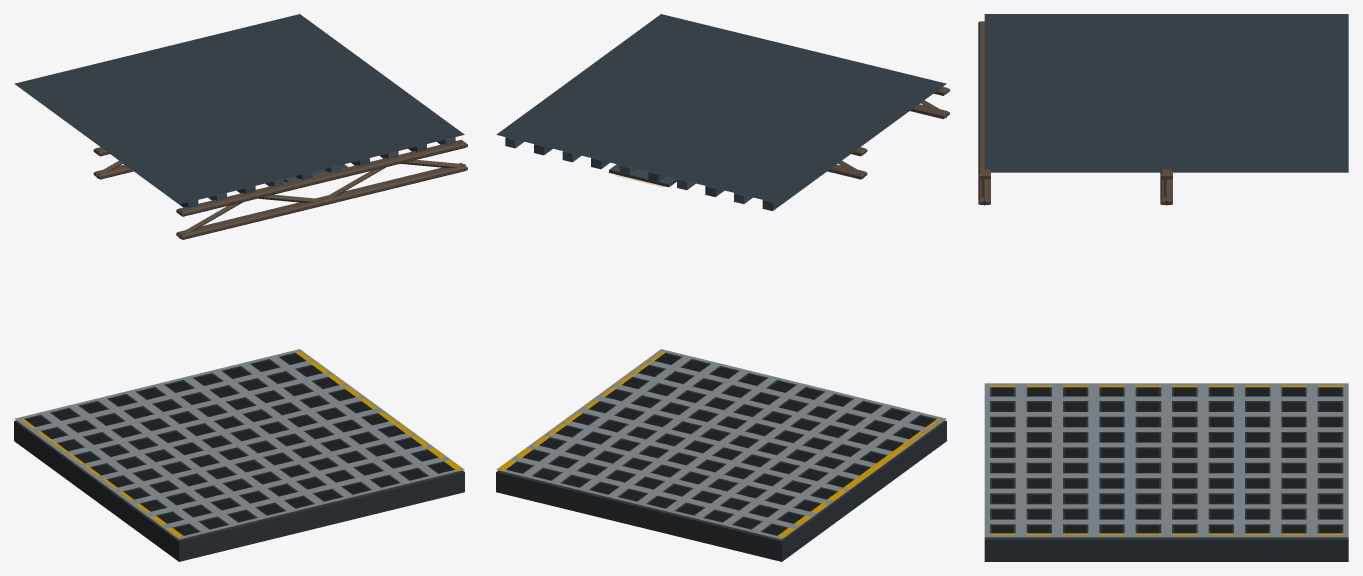
File: floor_b.fbx
3 views of the same model, side by side, from view 1: azimuth 30°, elevation 25°; view 2: azimuth 150°, elevation 25°; view 3: azimuth 270°, elevation 25° (orthographic). The views are drawn at different scales.
Parts seen in each view (by area): view 1: floor_b, Ceiling; view 2: floor_b, Ceiling; view 3: floor_b, Ceiling.
Part boxes in pixels (x1,y1,x2,y2): floor_b: (14,349,464,561); Ceiling: (14,14,467,239); floor_b: (496,349,946,561); Ceiling: (496,14,949,210); floor_b: (984,383,1348,561); Ceiling: (978,14,1348,205).
Bounding box in the file's own units: 4.02 × 4.78 × 4.07.
